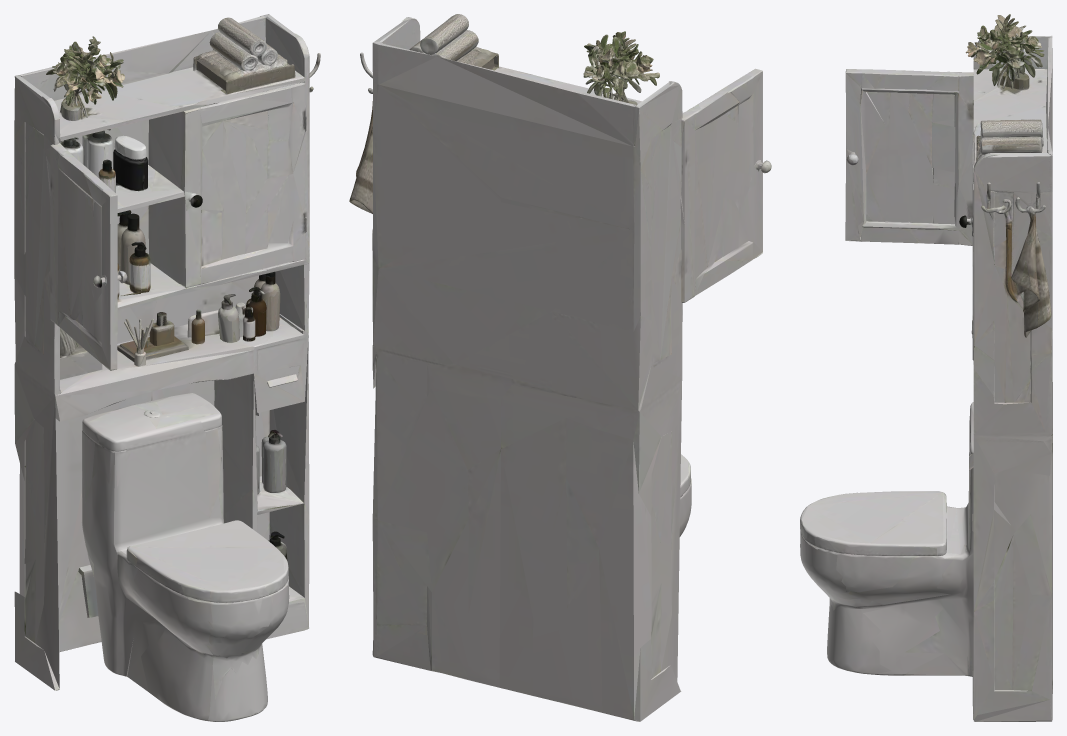
The model's file is wayfair-com-home-improvement-pdp-wrought-studio-freestanding-6bce39.glb.
3 renders of one model, left to right at view 1: azimuth 30°, elevation 25°; view 2: azimuth 150°, elevation 25°; view 3: azimuth 270°, elevation 25°, orthographic. The views are drawn at different scales.
Parts seen in each view (by area): view 1: Mesh_0; view 2: Mesh_0; view 3: Mesh_0.
Part boxes in pixels (x1,y1,x2,y2): Mesh_0: (14, 14, 320, 721); Mesh_0: (349, 14, 771, 721); Mesh_0: (800, 14, 1052, 721).
Size of the model in its own units: 0.9582 by 1.9 by 0.7188.
1 material, 1 textured.
